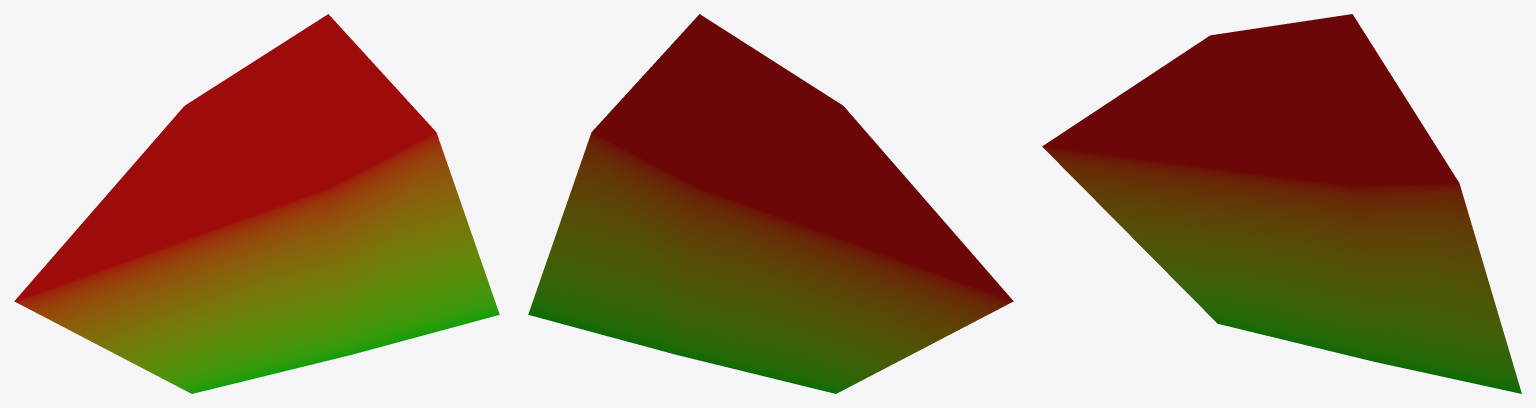
The model's file is Wild Grass_LOD4_Var11_vczndjqja.fbx.
3 views of the same model, side by side, from view 1: azimuth 30°, elevation 25°; view 2: azimuth 150°, elevation 25°; view 3: azimuth 330°, elevation 25° (orthographic).
Visible parts, largest first — view 1: _kktb_Var11_LOD4; view 2: _kktb_Var11_LOD4; view 3: _kktb_Var11_LOD4.
Boxes of the visible parts, bbox=[...] form: _kktb_Var11_LOD4: bbox=[14, 14, 499, 393]; _kktb_Var11_LOD4: bbox=[528, 14, 1013, 393]; _kktb_Var11_LOD4: bbox=[1042, 14, 1521, 393].
Bounding box in the file's own units: 71.85 × 49.02 × 5.82e-11.
